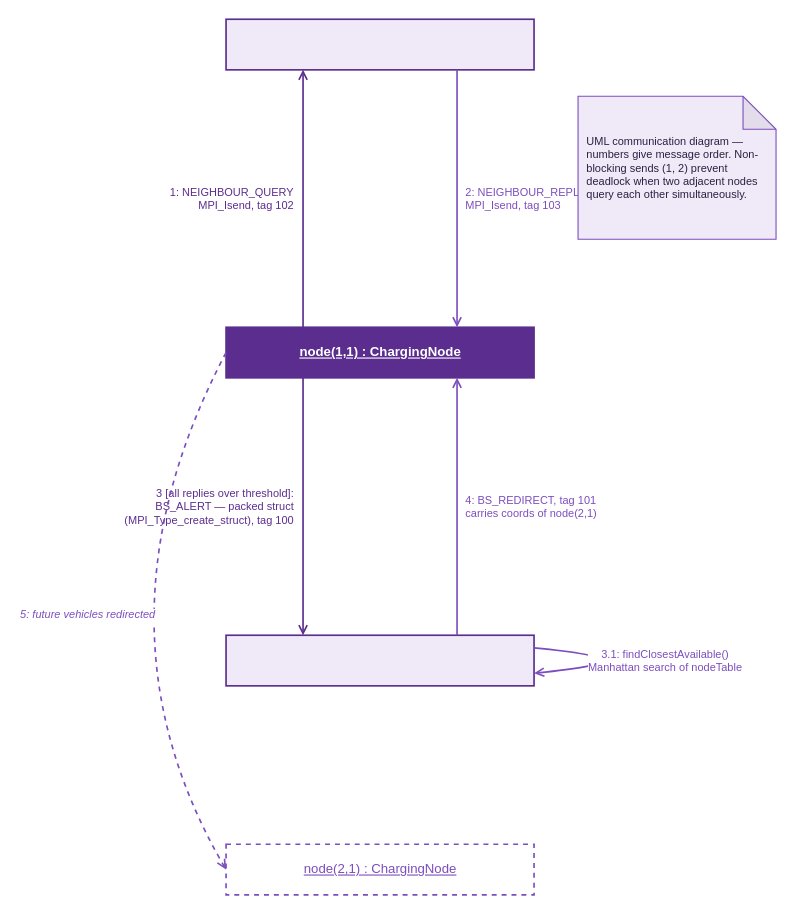
This 795x915 diagram has some shape labels left out. Here are the shapes that lost their labels. From the top down, the centre of each, then its label:
point 379,44: neighbours ×4 : ChargingNode
point 379,660: baseStation : BaseStation
